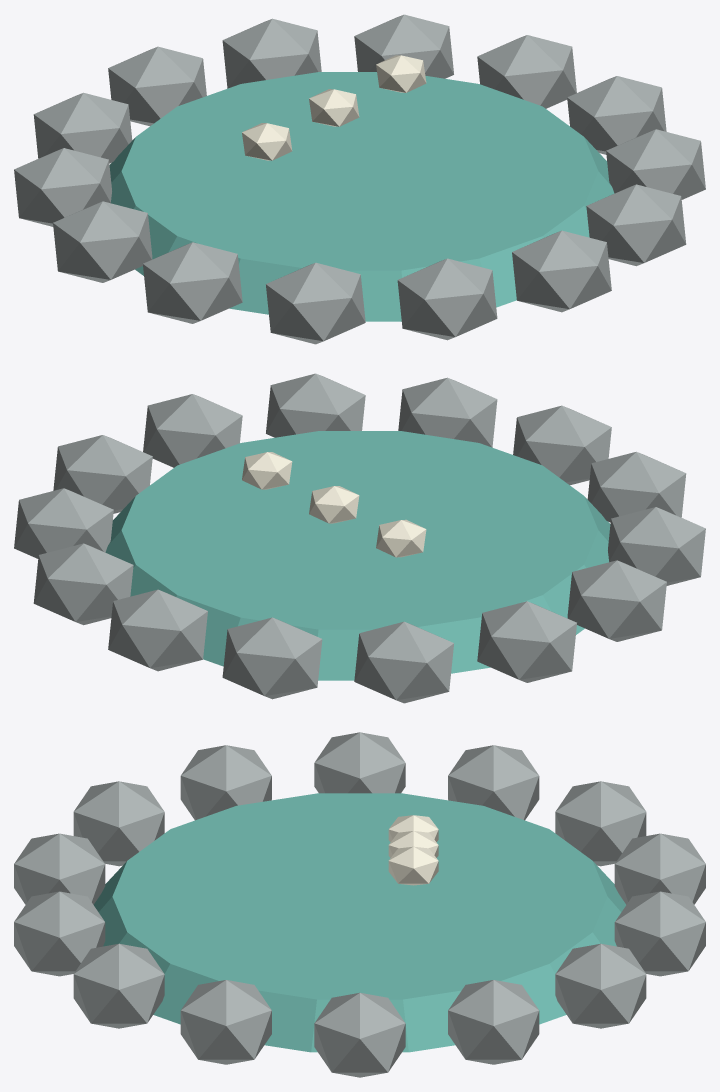
Rendered from CC_HotSpring.fbx.
3 renders of one model, top to bottom at view 1: azimuth 30°, elevation 25°; view 2: azimuth 150°, elevation 25°; view 3: azimuth 270°, elevation 25°, orthographic. The views are drawn at different scales.
Visible parts, largest first — view 1: Spring water, Spring rock.011, Spring rock.008, Spring rock.010, Spring rock.009, Spring rock.007, Spring rock.012, Spring rock.006, Spring rock.004, Spring rock, Spring rock.001, Spring rock.013 (+6 smaller); view 2: Spring water, Spring rock.003, Spring rock.004, Spring rock.006, Spring rock.005, Spring rock.007, Spring rock.002, Spring rock.008, Spring rock.010, Spring rock, Spring rock.013, Spring rock.001 (+6 smaller); view 3: Spring water, Spring rock, Spring rock.001, Spring rock.013, Spring rock.002, Spring rock.012, Spring rock.003, Spring rock.011, Spring rock.005, Spring rock.009, Spring rock.006, Spring rock.008 (+6 smaller).
Part boxes in pixels (x1,y1,x2,y2): Spring water: (109, 72, 614, 321); Spring rock.011: (512, 230, 611, 312); Spring rock.008: (143, 242, 242, 323); Spring rock.010: (397, 258, 497, 340); Spring rock.009: (266, 262, 365, 344); Spring rock.007: (53, 201, 152, 282); Spring rock.012: (586, 184, 686, 266); Spring rock.006: (14, 148, 111, 226); Spring rock.004: (108, 46, 206, 126); Spring rock: (567, 76, 666, 154); Spring rock.001: (477, 35, 576, 108); Spring rock.013: (606, 129, 705, 199); Spring water: (105, 431, 610, 680); Spring rock.003: (108, 589, 207, 671); Spring rock.004: (222, 617, 322, 699); Spring rock.006: (477, 601, 576, 682); Spring rock.005: (354, 621, 453, 703); Spring rock.007: (567, 560, 666, 641); Spring rock.002: (33, 543, 133, 625); Spring rock.008: (608, 507, 705, 585); Spring rock.010: (513, 405, 611, 485); Spring rock: (53, 435, 152, 513); Spring rock.013: (143, 394, 242, 467); Spring rock.001: (14, 488, 113, 558); Spring water: (94, 793, 625, 1052); Spring rock: (314, 992, 405, 1077); Spring rock.001: (448, 980, 539, 1064); Spring rock.013: (180, 980, 271, 1064); Spring rock.002: (555, 943, 646, 1028); Spring rock.012: (73, 943, 164, 1028); Spring rock.003: (614, 891, 705, 976); Spring rock.011: (14, 891, 105, 976); Spring rock.005: (555, 781, 646, 866); Spring rock.009: (73, 781, 164, 866); Spring rock.006: (448, 745, 539, 820); Spring rock.008: (180, 745, 271, 820).
Size of the model in its own units: 5.4 by 1.11 by 5.17.
